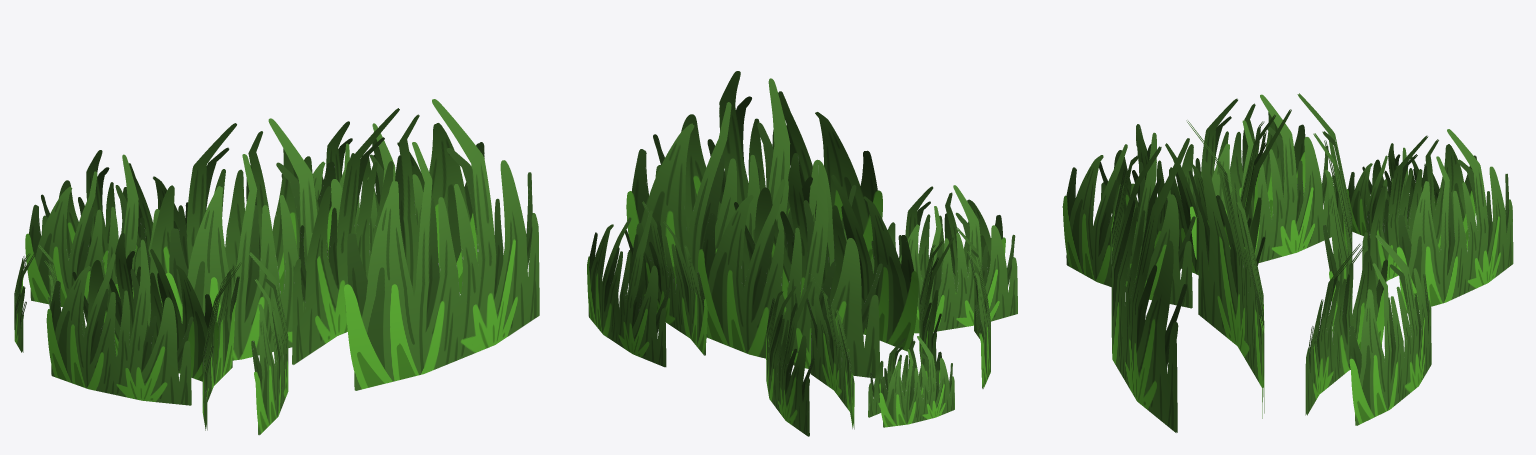
The model's file is grass.fbx.
The picture shows the model from 3 angles, left to right: view 1: azimuth 30°, elevation 25°; view 2: azimuth 150°, elevation 25°; view 3: azimuth 270°, elevation 25°; orthographic projection. The views are drawn at different scales.
Parts seen in each view (by area): view 1: grass; view 2: grass; view 3: grass.
Part boxes in pixels (left/top/right/bottom): grass: left=14, top=99, right=539, bottom=435; grass: left=587, top=71, right=1017, bottom=436; grass: left=1062, top=93, right=1513, bottom=432.
Size of the model in its own units: 198 by 113 by 172.
Materials: 1 (1 with a texture image).
